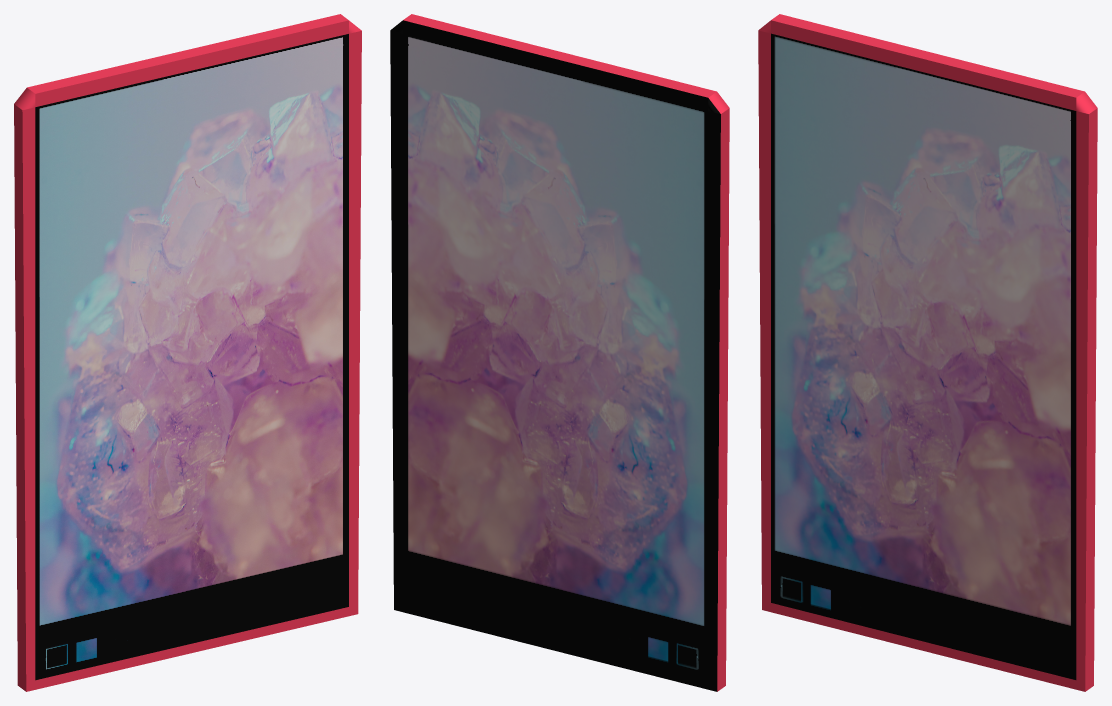
The model's file is p_tablo.obj.
3 views of the same model, side by side, from view 1: azimuth 30°, elevation 25°; view 2: azimuth 150°, elevation 25°; view 3: azimuth 330°, elevation 25° (orthographic).
Parts seen in each view (by area): view 1: Plane.014_tablo_pembe, Plane.014_m_koyupembe; view 2: Plane.014_tablo_pembe, Plane.014_m_koyupembe; view 3: Plane.014_tablo_pembe, Plane.014_m_koyupembe.
Part boxes in pixels (left/top/right/bottom): Plane.014_tablo_pembe: left=35, top=34, right=348, bottom=680; Plane.014_m_koyupembe: left=14, top=14, right=361, bottom=691; Plane.014_tablo_pembe: left=390, top=20, right=720, bottom=691; Plane.014_m_koyupembe: left=403, top=14, right=729, bottom=691; Plane.014_tablo_pembe: left=771, top=33, right=1076, bottom=679; Plane.014_m_koyupembe: left=758, top=14, right=1097, bottom=691.
Bounding box in the file's own units: 10.25 × 17.36 × 0.6305.
